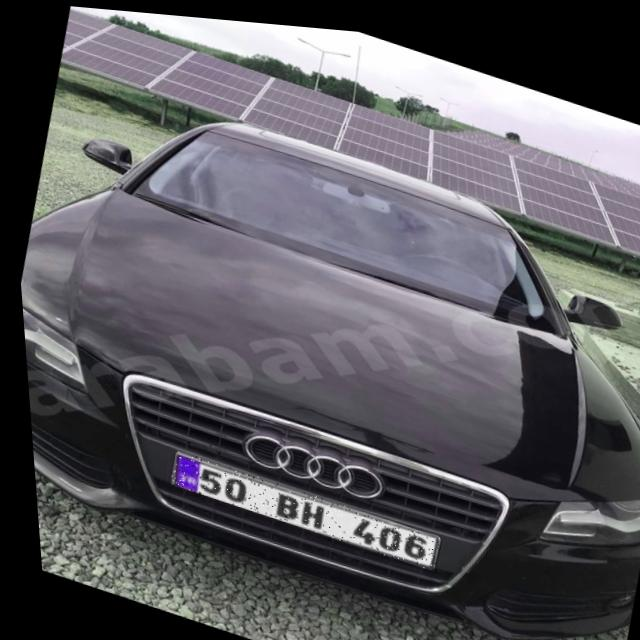license_plate: (160, 446, 434, 565)
